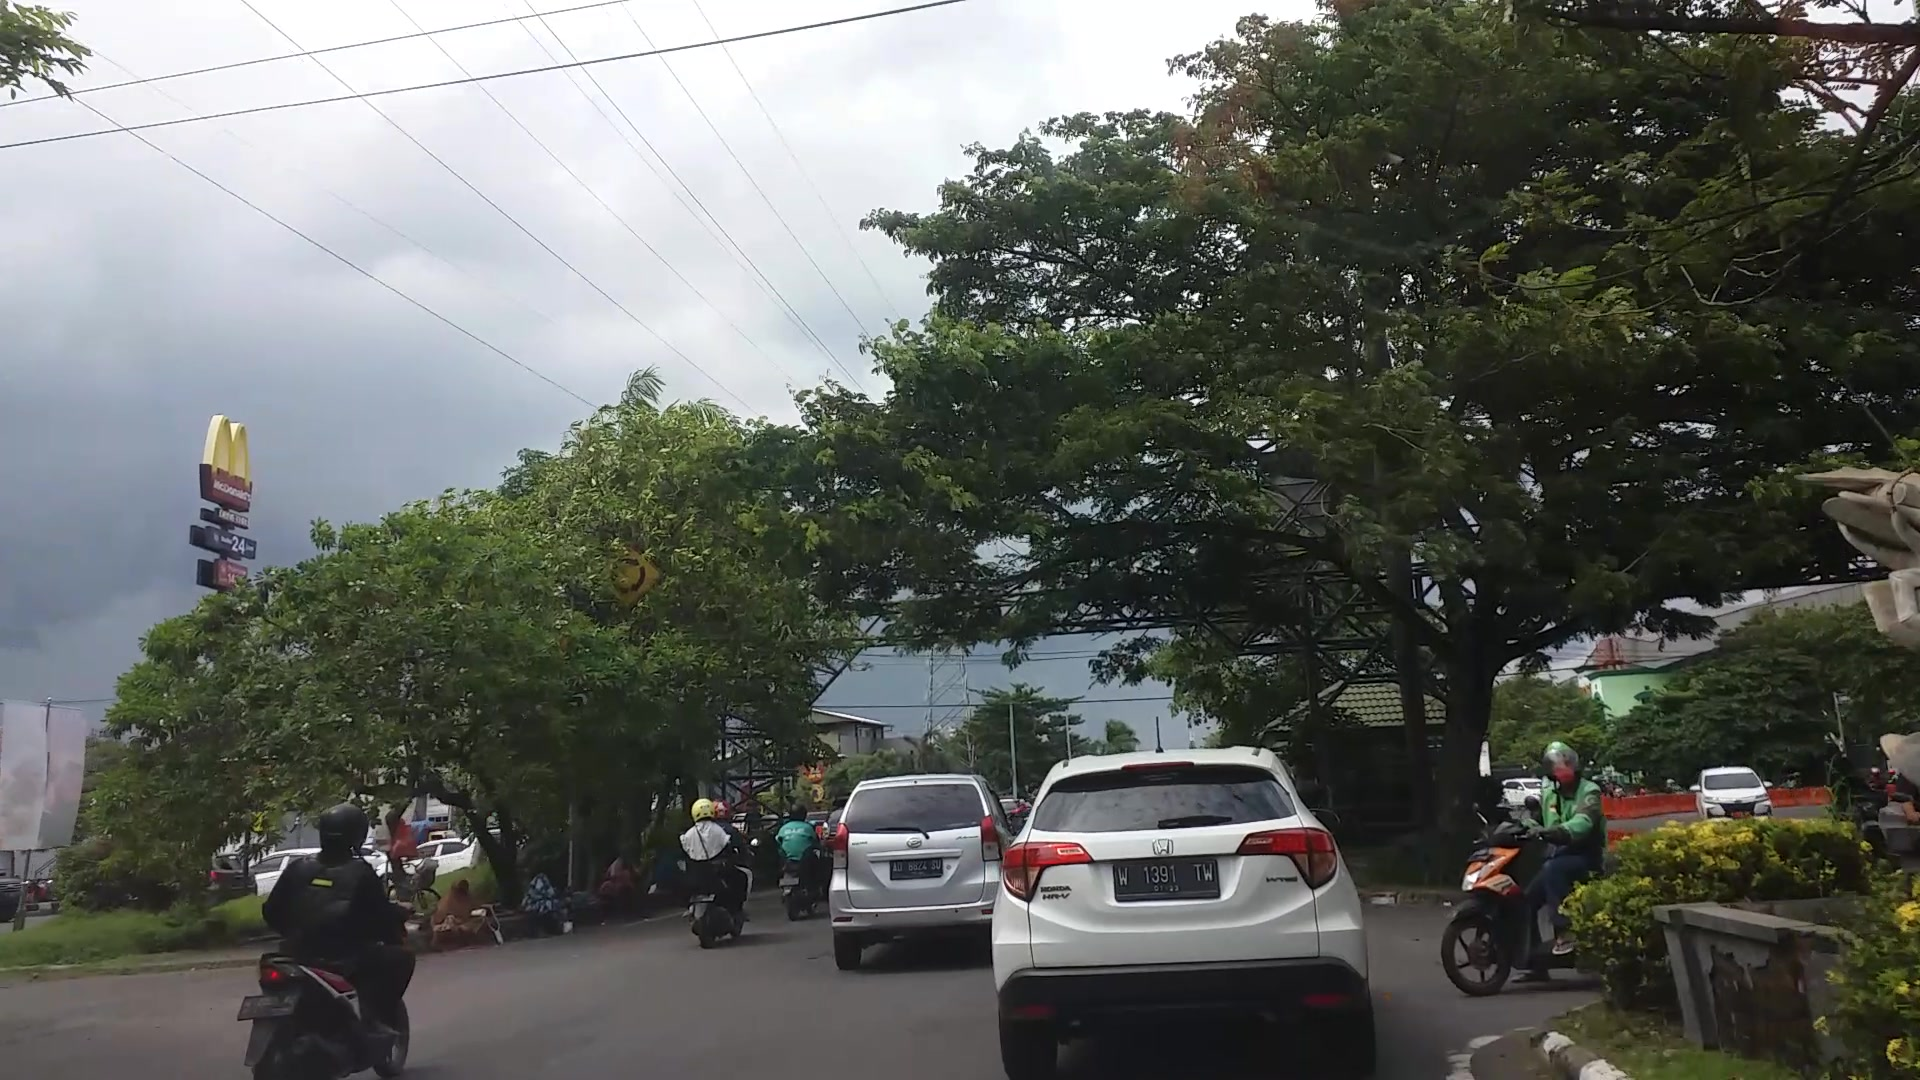plate_positive: (1114, 860, 1221, 899)
